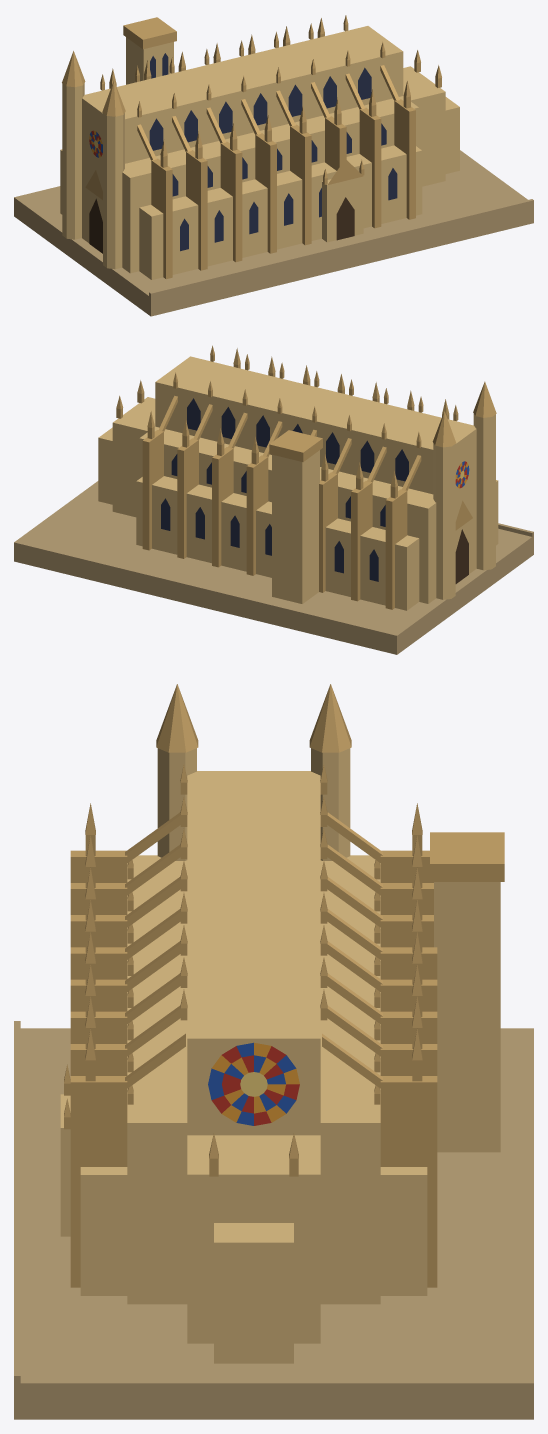
Rendered from seu.glb.
3 renders of one model, top to bottom at view 1: azimuth 30°, elevation 25°; view 2: azimuth 150°, elevation 25°; view 3: azimuth 270°, elevation 25°, orthographic. The views are drawn at different scales.
Size of the model in its own units: 127 by 64 by 78.
